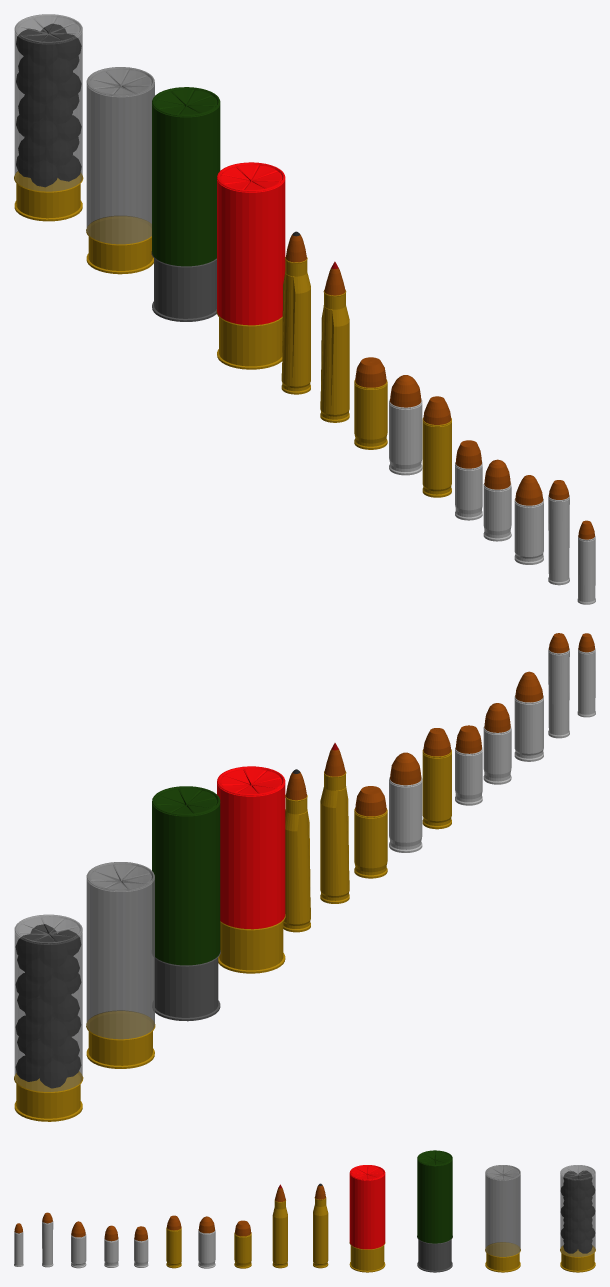
The model's file is Ammo.fbx.
3 renders of one model, top to bottom at view 1: azimuth 30°, elevation 25°; view 2: azimuth 150°, elevation 25°; view 3: azimuth 270°, elevation 25°, orthographic. The views are drawn at different scales.
Visible parts, largest first — view 1: Shotgun_Cartridge2, Shotgun_Cartridge4, Shotgun_Cartridge, Shotgun_Cartridge3, 308_WIM_Bullet, 243_WIM_Bullet, 45_ACP_Bullet, 40_Bullet, 10MM_Bullet, 9MM_Bullet, 22_WMR_Bullet, 380_Auto_Bullet (+2 smaller); view 2: Shotgun_Cartridge2, Shotgun_Cartridge4, Shotgun_Cartridge3, Shotgun_Cartridge, 243_WIM_Bullet, 308_WIM_Bullet, 45_ACP_Bullet, 40_Bullet, 10MM_Bullet, 9MM_Bullet, 22_WMR_Bullet, 380_Auto_Bullet (+2 smaller); view 3: Shotgun_Cartridge2, Shotgun_Cartridge, Shotgun_Cartridge3, Shotgun_Cartridge4, 308_WIM_Bullet, 243_WIM_Bullet, 45_ACP_Bullet, 40_Bullet, 10MM_Bullet, 9MM_Bullet, 22_WMR_Bullet, 380_Auto_Bullet (+2 smaller).
Boxes of the visible parts, bbox=[...] form: Shotgun_Cartridge2: bbox=[151, 87, 220, 321]; Shotgun_Cartridge4: bbox=[14, 14, 83, 221]; Shotgun_Cartridge: bbox=[216, 162, 285, 369]; Shotgun_Cartridge3: bbox=[86, 67, 154, 274]; 308_WIM_Bullet: bbox=[281, 231, 310, 394]; 243_WIM_Bullet: bbox=[320, 261, 349, 422]; 45_ACP_Bullet: bbox=[389, 375, 422, 475]; 40_Bullet: bbox=[354, 357, 387, 449]; 10MM_Bullet: bbox=[422, 396, 451, 497]; 9MM_Bullet: bbox=[514, 475, 543, 564]; 22_WMR_Bullet: bbox=[548, 480, 569, 585]; 380_Auto_Bullet: bbox=[483, 459, 511, 541]; Shotgun_Cartridge2: bbox=[152, 786, 220, 1021]; Shotgun_Cartridge4: bbox=[14, 914, 83, 1121]; Shotgun_Cartridge3: bbox=[86, 862, 155, 1068]; Shotgun_Cartridge: bbox=[217, 766, 285, 973]; 243_WIM_Bullet: bbox=[320, 743, 349, 903]; 308_WIM_Bullet: bbox=[283, 769, 310, 932]; 45_ACP_Bullet: bbox=[389, 752, 422, 852]; 40_Bullet: bbox=[354, 786, 387, 878]; 10MM_Bullet: bbox=[422, 728, 451, 829]; 9MM_Bullet: bbox=[514, 671, 543, 761]; 22_WMR_Bullet: bbox=[548, 633, 569, 738]; 380_Auto_Bullet: bbox=[483, 703, 511, 784]; Shotgun_Cartridge2: bbox=[417, 1150, 452, 1272]; Shotgun_Cartridge: bbox=[349, 1165, 385, 1272]; Shotgun_Cartridge3: bbox=[485, 1165, 520, 1272]; Shotgun_Cartridge4: bbox=[560, 1165, 595, 1272]; 308_WIM_Bullet: bbox=[313, 1183, 328, 1268]; 243_WIM_Bullet: bbox=[272, 1184, 287, 1268]; 45_ACP_Bullet: bbox=[198, 1216, 215, 1268]; 40_Bullet: bbox=[234, 1220, 251, 1268]; 10MM_Bullet: bbox=[166, 1215, 181, 1268]; 9MM_Bullet: bbox=[71, 1221, 86, 1268]; 22_WMR_Bullet: bbox=[42, 1212, 53, 1267]; 380_Auto_Bullet: bbox=[104, 1225, 118, 1267].
Bounding box in the file's own units: 47.81 × 157 × 771.
